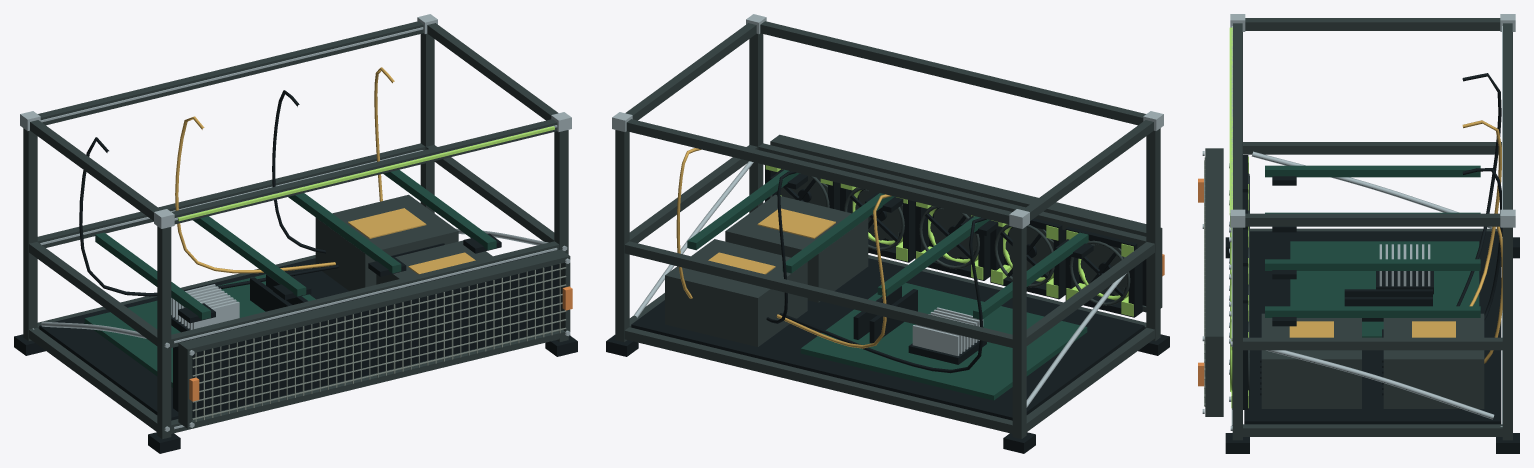
File: rig-gameplay-carbon-none.glb
3 renders of one model, left to right at view 1: azimuth 30°, elevation 25°; view 2: azimuth 150°, elevation 25°; view 3: azimuth 270°, elevation 25°, orthographic.
Visible parts, largest first — view 1: Anodized graphite (×2), filter-carbon, Filter fibres, Circuit board, Rubber and ABS, Brushed aluminium, Contacts, rig-gameplay-carbon-none, slot-cable-1, slot-cable-2, slot-cable-3; view 2: Anodized graphite (×7), Rubber and ABS (×5), Circuit board, Brushed aluminium, Lime accents (×3), Contacts, slot-cable-1, slot-cable-2, slot-cable-3, slot-cable-4; view 3: Anodized graphite (×2), Rubber and ABS (×2), Circuit board, Brushed aluminium, Contacts, slot-cable-1, slot-cable-2, rig-gameplay-carbon-none, slot-cable-3, Filter fibres, slot-cable-4.
Boxes of the visible parts, x1,y1,x2,y2 form: Anodized graphite (×2): (23, 21, 570, 438); filter-carbon: (192, 264, 560, 417); Filter fibres: (192, 263, 566, 421); Circuit board: (84, 169, 496, 387); Rubber and ABS: (14, 233, 577, 453); Brushed aluminium: (20, 14, 571, 431); Contacts: (348, 208, 475, 274); rig-gameplay-carbon-none: (177, 126, 554, 221); slot-cable-1: (79, 137, 338, 296); slot-cable-2: (175, 116, 335, 273); slot-cable-3: (272, 90, 325, 253); Anodized graphite (×7): (615, 21, 1162, 438); Rubber and ABS (×5): (606, 169, 1169, 453); Circuit board: (687, 169, 1088, 400); Brushed aluminium: (612, 14, 1163, 407); Lime accents (×3): (916, 202, 1133, 316); Contacts: (708, 208, 835, 274); slot-cable-1: (779, 217, 986, 373); slot-cable-2: (776, 194, 891, 348); slot-cable-3: (766, 171, 796, 323); slot-cable-4: (676, 148, 701, 298); Anodized graphite (×2): (1205, 18, 1512, 440); Rubber and ABS (×2): (1225, 176, 1519, 453); Circuit board: (1265, 165, 1480, 337); Brushed aluminium: (1230, 14, 1515, 430); Contacts: (1289, 321, 1455, 337); slot-cable-1: (1456, 73, 1501, 306); slot-cable-2: (1462, 120, 1501, 306); rig-gameplay-carbon-none: (1229, 27, 1232, 214); slot-cable-3: (1462, 168, 1502, 320); Filter fibres: (1204, 157, 1205, 406); slot-cable-4: (1484, 226, 1502, 363).
Size of the model in its own units: 6.06 by 3.24 by 4.01.
